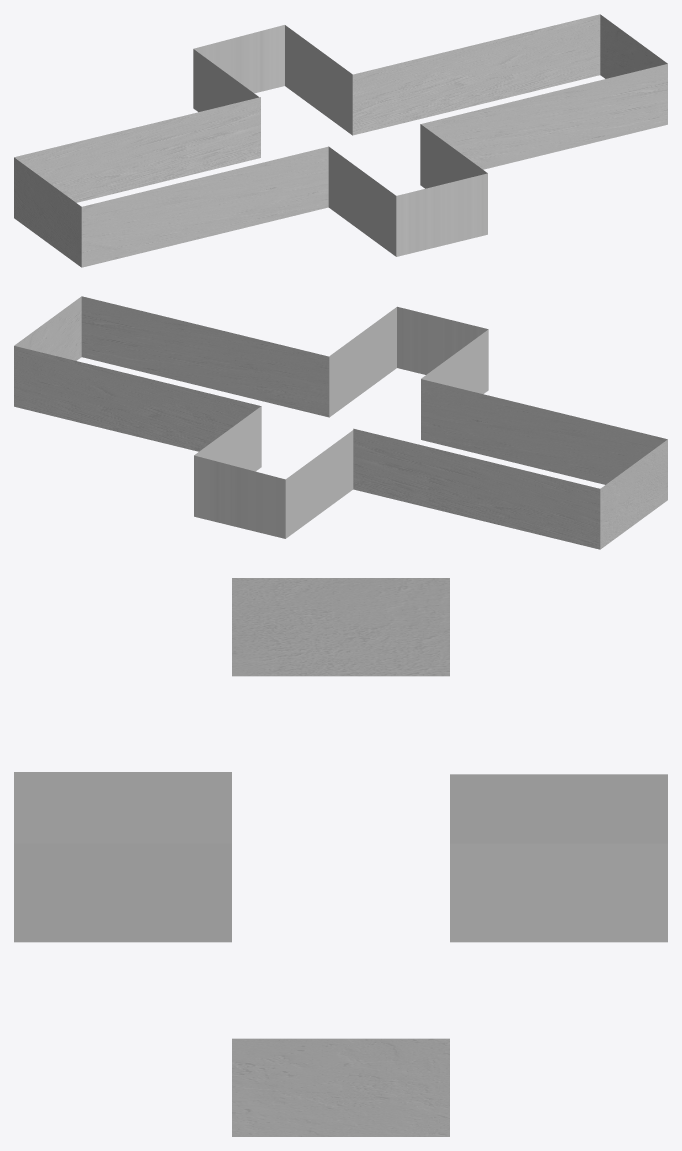
Rendered from testWall.glb.
3 views of the same model, one above another, from view 1: azimuth 30°, elevation 25°; view 2: azimuth 150°, elevation 25°; view 3: azimuth 270°, elevation 25° (orthographic). The views are drawn at different scales.
Visible parts, largest first — view 1: Wall; view 2: Wall; view 3: Wall.
Boxes of the visible parts, bbox=[...] form: Wall: bbox=[14, 14, 667, 267]; Wall: bbox=[14, 296, 667, 549]; Wall: bbox=[14, 578, 667, 1136].
Size of the model in its own units: 500 by 50 by 300.
1 material, 1 textured.
